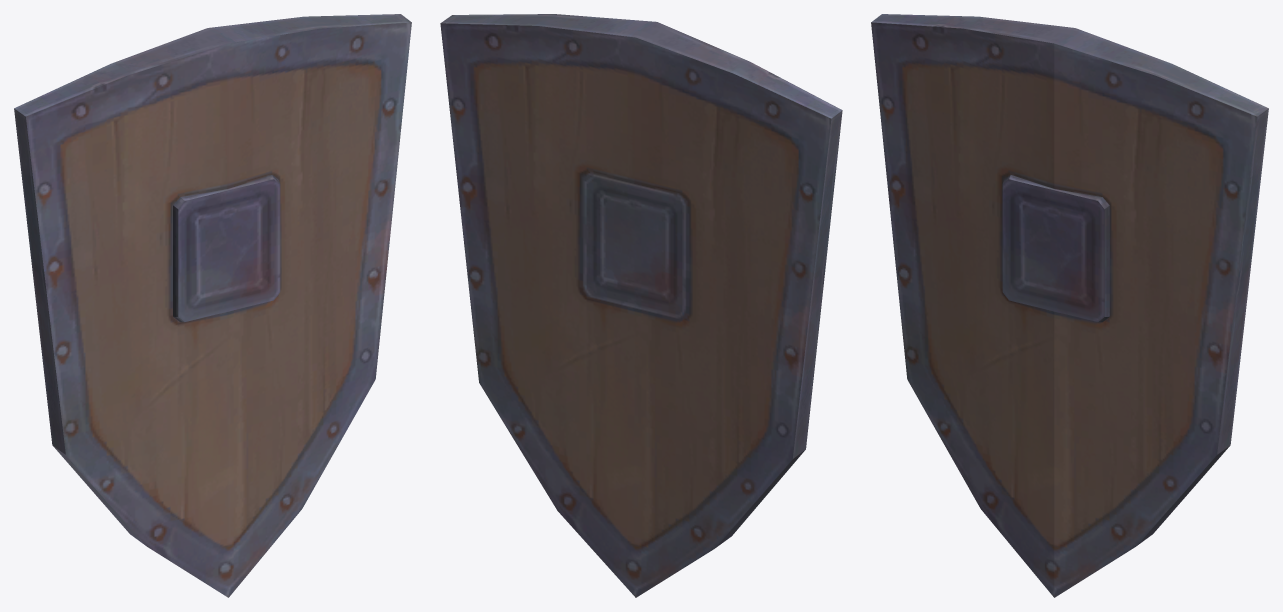
The model's file is Homeworld_Interior_Md_Walldecoration_Shield_02_Vo.fbx.
The picture shows the model from 3 angles, left to right: view 1: azimuth 30°, elevation 25°; view 2: azimuth 150°, elevation 25°; view 3: azimuth 330°, elevation 25°; orthographic projection.
Visible parts, largest first — view 1: Area_ManorProps_Shield02_Vo; view 2: Area_ManorProps_Shield02_Vo; view 3: Area_ManorProps_Shield02_Vo.
Boxes of the visible parts, left/top/right/bottom form: Area_ManorProps_Shield02_Vo: left=14, top=14, right=411, bottom=597; Area_ManorProps_Shield02_Vo: left=440, top=14, right=842, bottom=597; Area_ManorProps_Shield02_Vo: left=871, top=14, right=1268, bottom=597.
Bounding box in the file's own units: 0.5898 × 0.8077 × 0.058.
